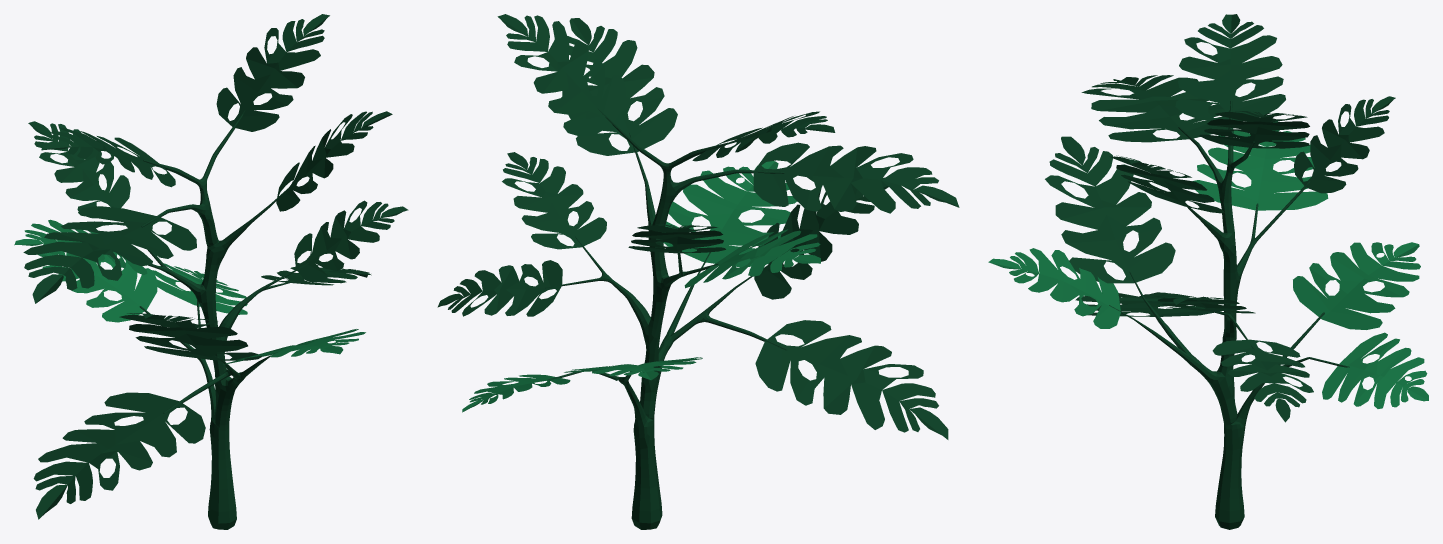
Rendered from brigesPlane_103.fbx.
3 views of the same model, side by side, from view 1: azimuth 30°, elevation 25°; view 2: azimuth 150°, elevation 25°; view 3: azimuth 270°, elevation 25° (orthographic). The views are drawn at different scales.
Visible parts, largest first — view 1: Plane.103; view 2: Plane.103; view 3: Plane.103.
Part boxes in pixels (left/top/right/bottom): Plane.103: left=14, top=14, right=408, bottom=529; Plane.103: left=437, top=14, right=959, bottom=529; Plane.103: left=988, top=14, right=1428, bottom=529.
Size of the model in its own units: 464 by 504 by 424.
